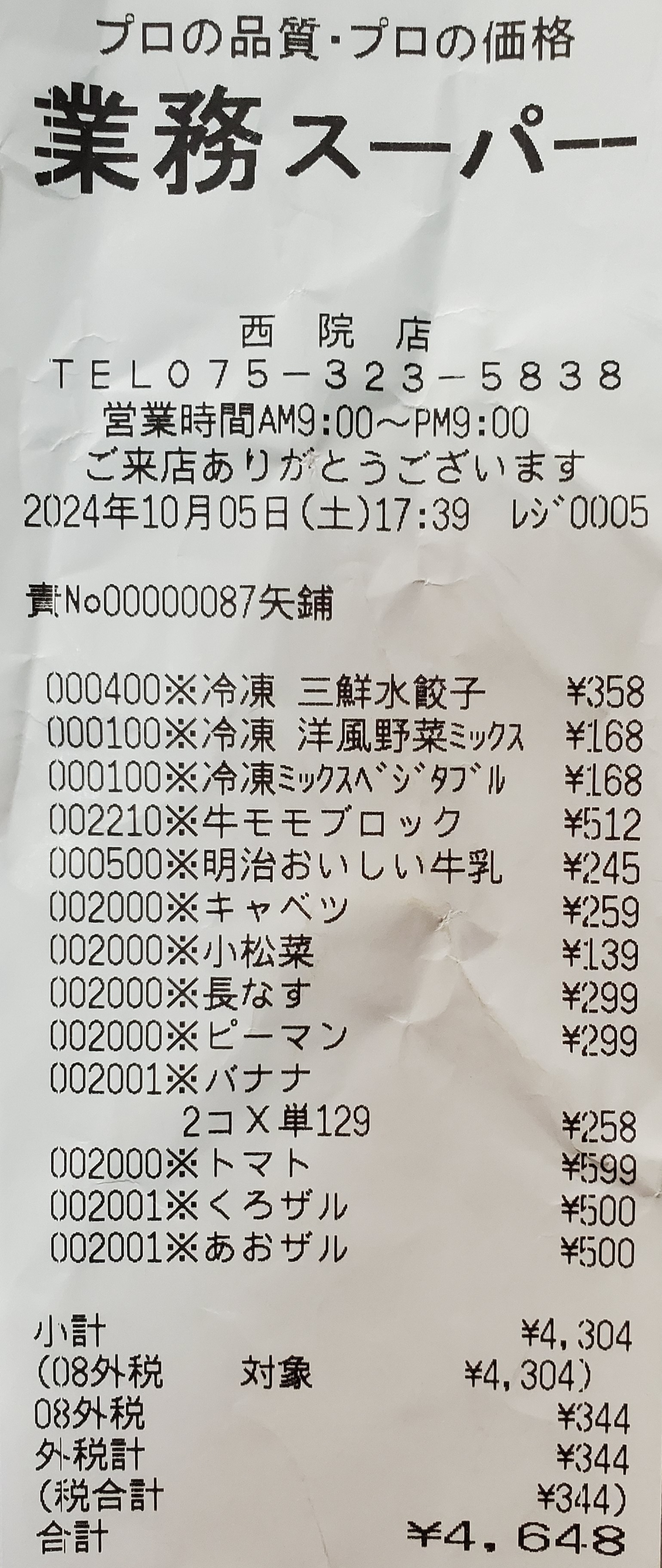Date: (13, 488, 298, 542)
Shopname: (13, 66, 644, 229)
Telnum: (155, 354, 642, 397)
Totalpay: (28, 1517, 653, 1568)
